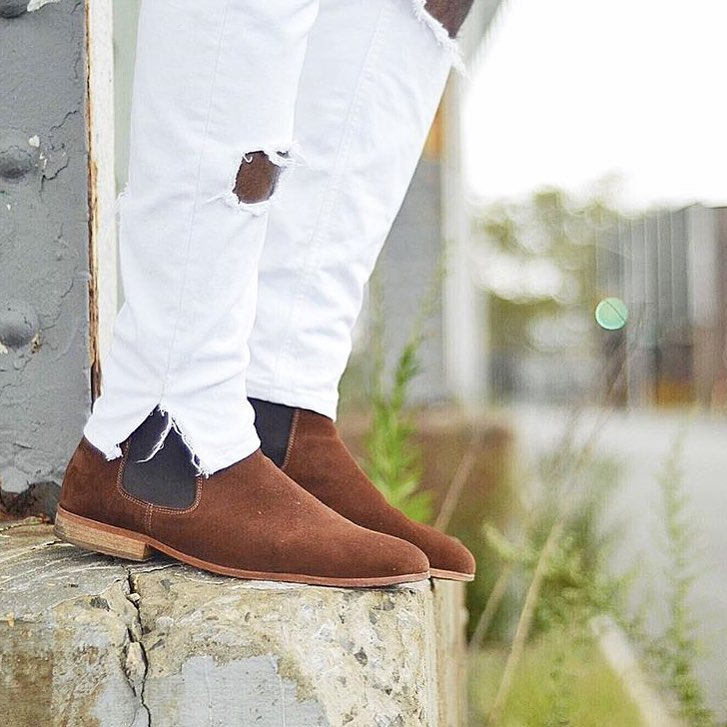sneaker: (35, 360, 446, 604), (216, 371, 487, 601)
